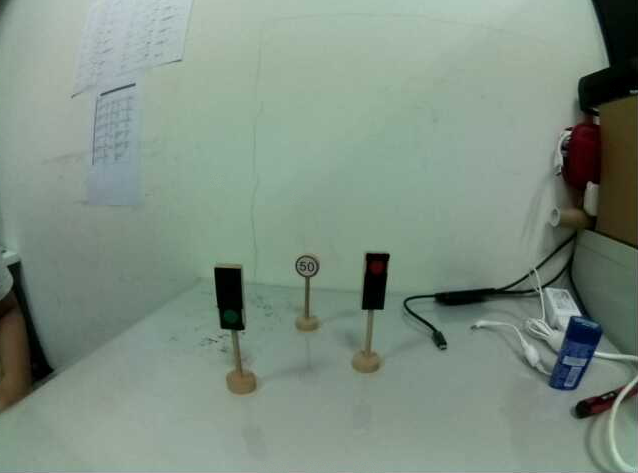Green: (211, 261, 249, 331)
Red: (356, 248, 392, 316)
Speed50: (292, 253, 320, 283)
